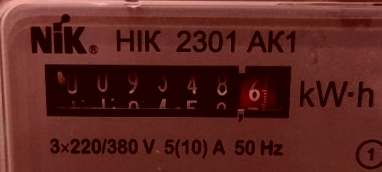0: (63, 69, 80, 96), (94, 67, 109, 93)
3: (155, 68, 170, 93)
4: (182, 66, 201, 96)
6: (245, 74, 263, 104)
8: (214, 69, 230, 97)
9: (125, 70, 140, 97)
screen: (26, 49, 305, 129)
